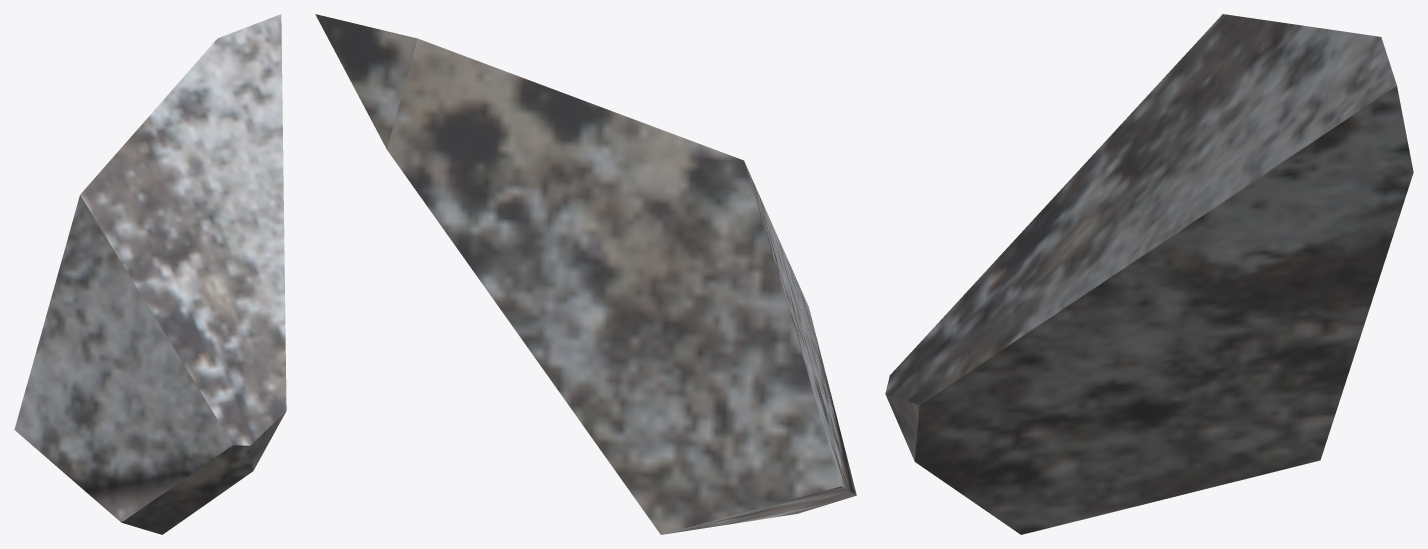
Rendered from Asteroid_Large_001_02_012_03_011.fbx.
3 renders of one model, left to right at view 1: azimuth 30°, elevation 25°; view 2: azimuth 150°, elevation 25°; view 3: azimuth 270°, elevation 25°, orthographic. The views are drawn at different scales.
Parts seen in each view (by area): view 1: Asteroid_Large_001_02_012_03_011; view 2: Asteroid_Large_001_02_012_03_011; view 3: Asteroid_Large_001_02_012_03_011.
Part boxes in pixels (bbox=[...]): Asteroid_Large_001_02_012_03_011: bbox=[14, 14, 286, 534]; Asteroid_Large_001_02_012_03_011: bbox=[315, 14, 856, 534]; Asteroid_Large_001_02_012_03_011: bbox=[885, 14, 1413, 534].
Bounding box in the file's own units: 3.49 × 3.97 × 2.98.
